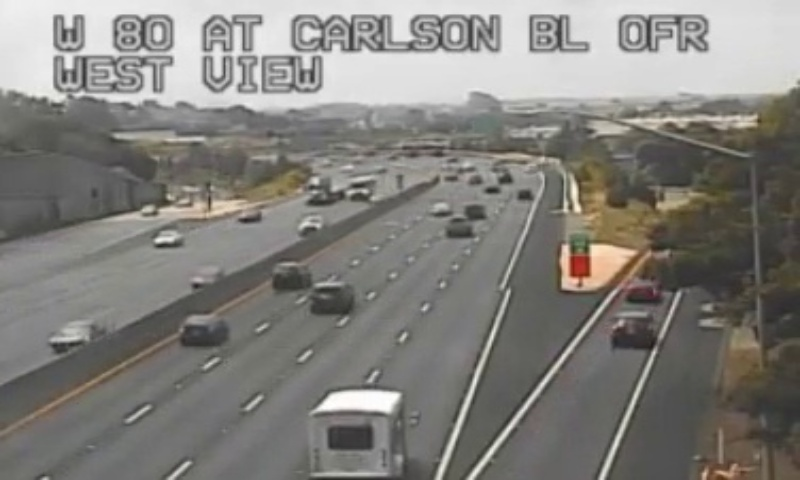bus: (310, 389, 408, 480)
car: (610, 312, 653, 348), (180, 315, 227, 344), (308, 283, 351, 312), (272, 261, 310, 288)
